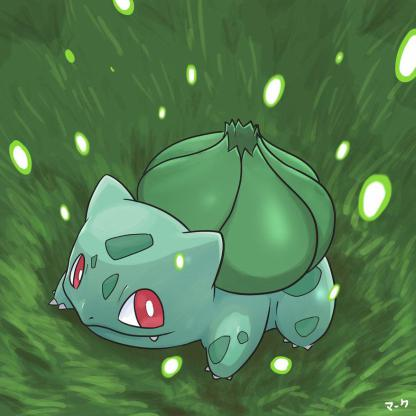Bulbasaur: (6, 37, 416, 414)
